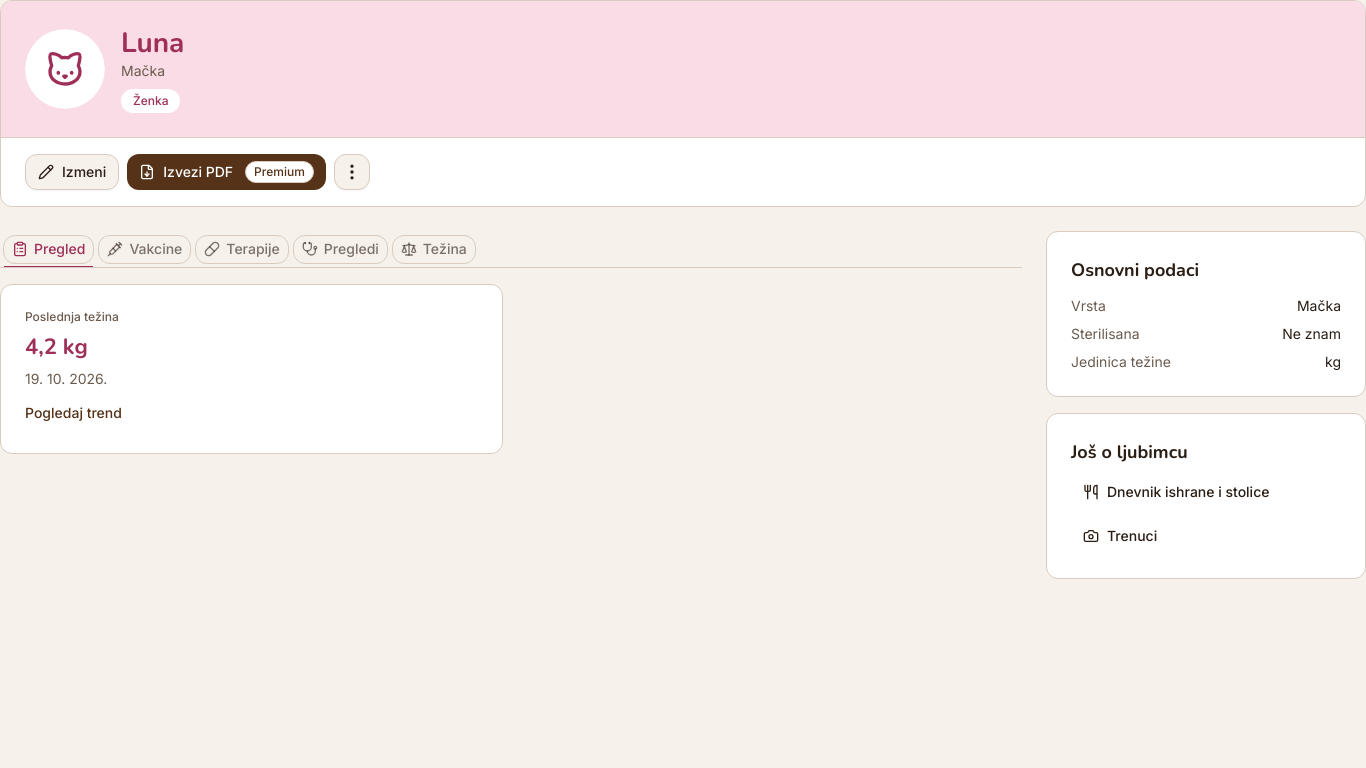
Test: EP-05 — Obriši trajno › Odustani closes the dialog without deleting
Click the button named "Još opcija": (352, 172) top-left (334, 154), bottom-right (370, 190)
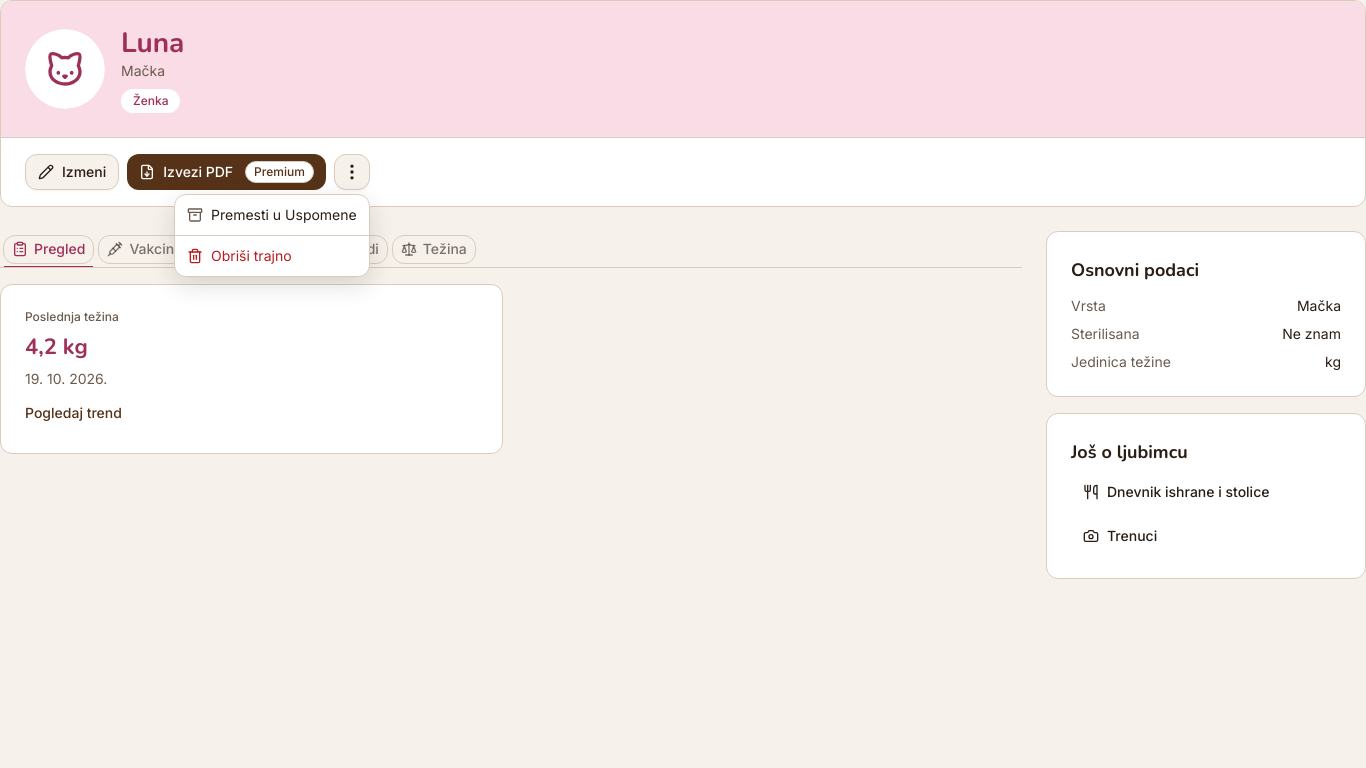
Click the menu item "Obriši trajno": (239, 256) top-left (187, 247), bottom-right (292, 264)
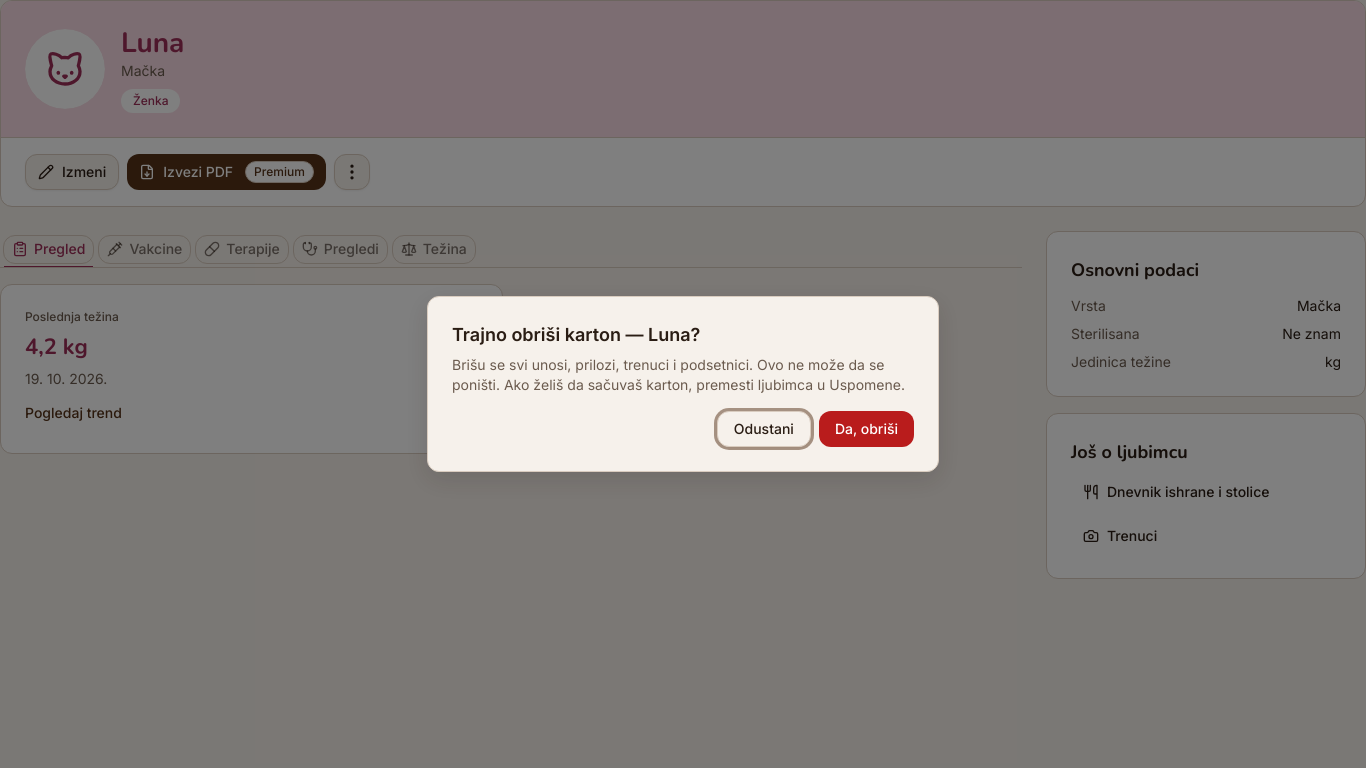
Click the button "Odustani": (764, 429) top-left (717, 411), bottom-right (811, 447)
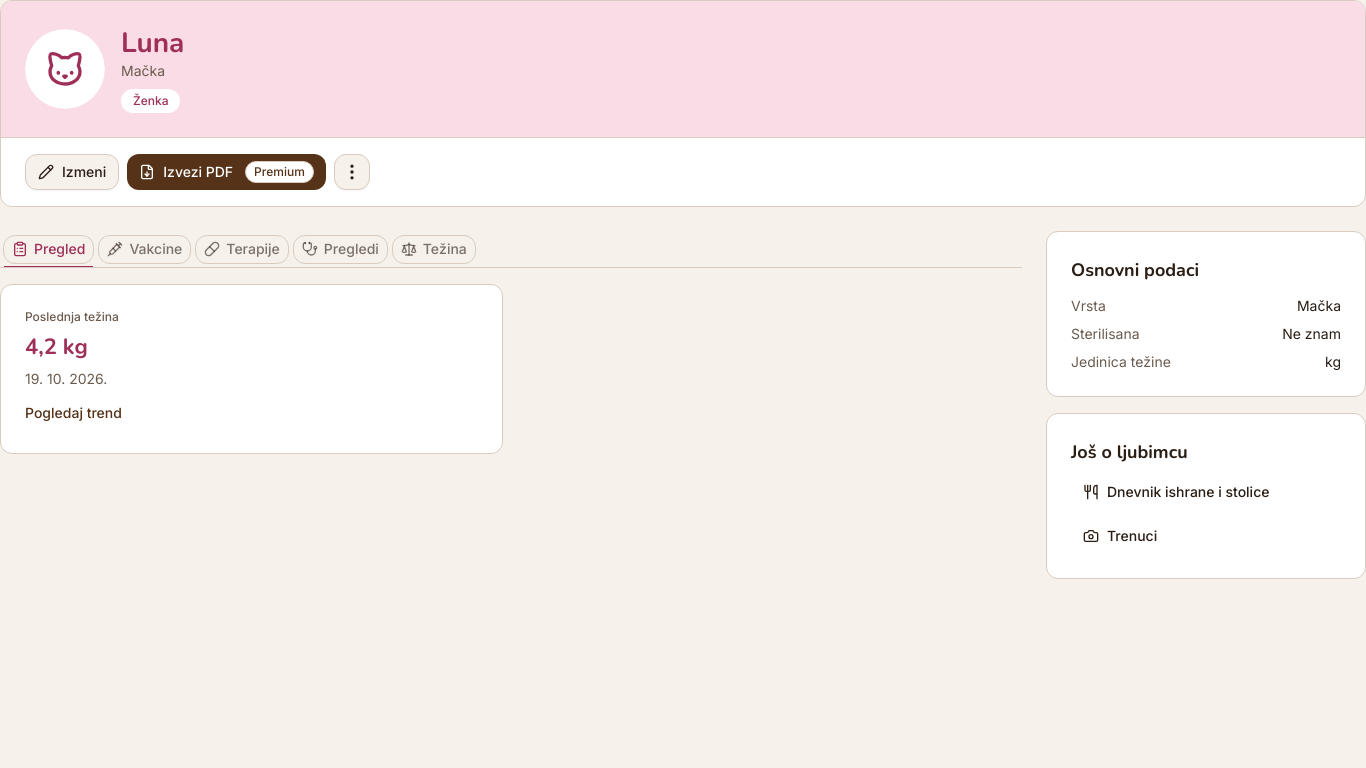
Result: the dialog is gone
